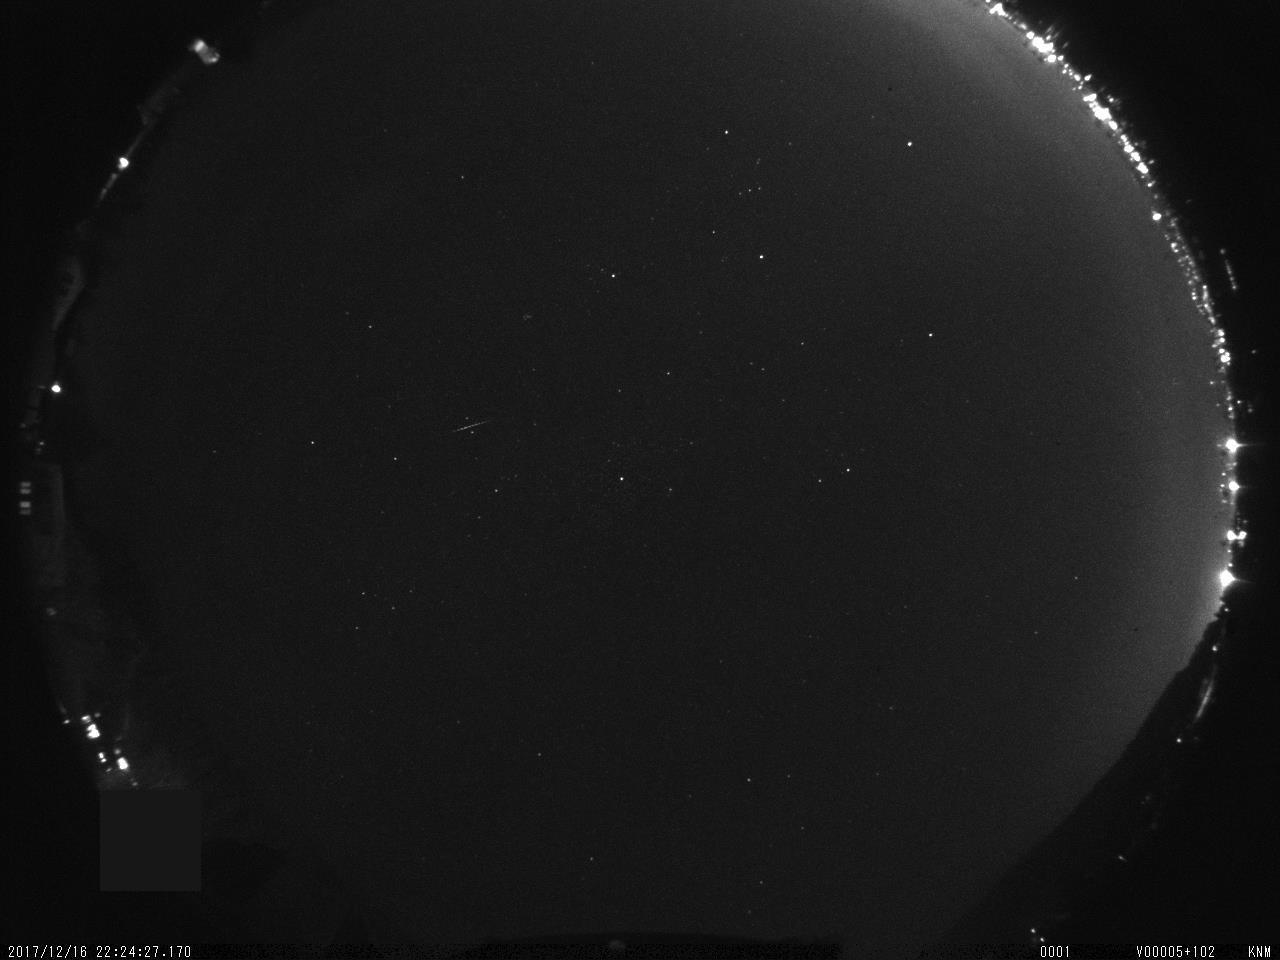Meteor: (444, 409, 500, 444)
